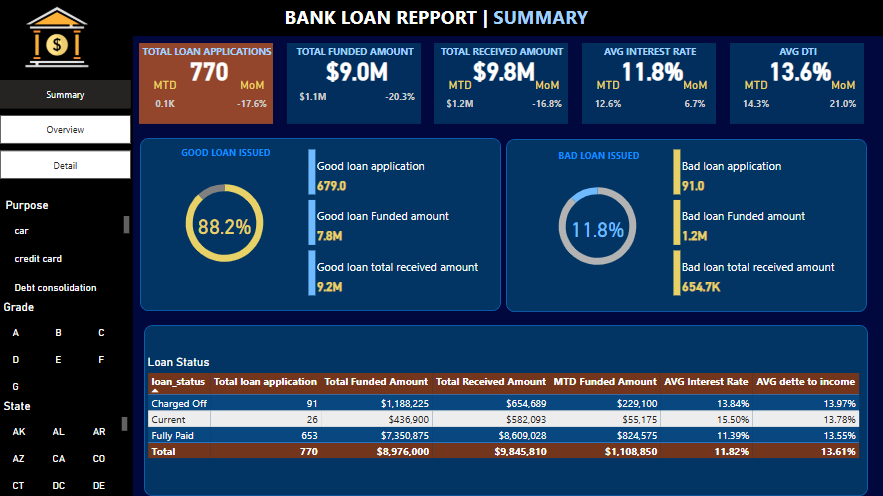

What the dashboard file says about the page in this screenshot:
{"tool":"powerbi","page":{"name":"Summary","canvas":[1280,720],"ordinal":0},"visuals":[{"type":"shape","box":[731.6,203.9,521.9,250.1],"z":0},{"type":"donutChart","fields":{"Category":["financial_loan.Good vs Bad Loan"],"Y":["financial_loan.Total loan application"]},"box":[224.1,250.1,201,150.4],"z":0,"group":"g6"},{"type":"donutChart","fields":{"Category":["financial_loan.Good vs Bad Loan"],"Y":["financial_loan.Total loan application"]},"box":[763.4,254.5,201,150.4],"z":0,"group":"g7"},{"type":"shape","box":[0,0,1280,55],"z":1000},{"type":"card","fields":{"Values":["financial_loan.Good loan application %"]},"box":[271.8,289.1,105.5,79.5],"z":1000,"group":"g6"},{"type":"card","fields":{"Values":["financial_loan.Bad loan application %"]},"box":[811.1,293.5,105.5,79.5],"z":1000,"group":"g7"},{"type":"shape","box":[0,55.4,192,665.2],"z":2000},{"type":"textbox","box":[234.2,209.6,185.1,53.5],"z":2000,"group":"g6"},{"type":"textbox","box":[773.5,214,185.1,53.5],"z":2000,"group":"g7"},{"type":"textbox","box":[406.5,3.4,465.3,52.1],"z":3000},{"type":"shape","box":[201.1,64.5,193.7,117.1],"z":3000,"group":"g1"},{"type":"shape","box":[414.7,64.5,193.7,117.1],"z":3000,"group":"g2"},{"type":"shape","box":[628.3,64.5,193.7,117.1],"z":3000,"group":"g3"},{"type":"shape","box":[841.9,64.5,193.7,117.1],"z":3000,"group":"g4"},{"type":"shape","box":[1055.6,64.5,193.7,117.1],"z":3000,"group":"g5"},{"type":"group","id":"g1","title":"Group 1","box":[189.4,62.2,219.8,120],"z":4000},{"type":"textbox","box":[189.4,62.2,219.8,34.7],"z":4000,"group":"g1"},{"type":"textbox","box":[403,62.2,219.8,34.7],"z":4000,"group":"g2"},{"type":"textbox","box":[616.6,62.2,219.8,34.7],"z":4000,"group":"g3"},{"type":"textbox","box":[830.2,62.2,219.8,34.7],"z":4000,"group":"g4"},{"type":"textbox","box":[1043.9,62.2,219.8,34.7],"z":4000,"group":"g5"},{"type":"group","id":"g2","title":"Group 1","box":[403,62.2,219.8,120],"z":5000},{"type":"card","fields":{"Values":["financial_loan.Total loan application"]},"box":[223.8,70.5,156.1,65.1],"z":5000,"group":"g1"},{"type":"card","fields":{"Values":["financial_loan.Total Funded Amount"]},"box":[437.4,70.5,156.1,65.1],"z":5000,"group":"g2"},{"type":"card","fields":{"Values":["financial_loan.Total Received Amount"]},"box":[651,70.5,156.1,65.1],"z":5000,"group":"g3"},{"type":"card","fields":{"Values":["financial_loan.AVG Interest Rate"]},"box":[864.6,70.5,156.1,65.1],"z":5000,"group":"g4"},{"type":"card","fields":{"Values":["financial_loan.AVG dette to income"]},"box":[1078.3,70.5,156.1,65.1],"z":5000,"group":"g5"},{"type":"group","id":"g3","title":"Group 1","box":[616.6,62.2,219.8,120],"z":6000},{"type":"card","title":"MTD ","fields":{"Values":["financial_loan.MTD Loan Application"]},"box":[202.7,115.9,72.2,58.8],"z":6000,"group":"g1"},{"type":"card","fields":{"Values":["financial_loan.MTD Funded Amount"]},"box":[416.3,115.9,72.2,58.8],"z":6000,"group":"g2"},{"type":"card","title":"MTD ","fields":{"Values":["financial_loan.MTD received amount"]},"box":[629.9,115.9,72.2,58.8],"z":6000,"group":"g3"},{"type":"card","title":"MTD ","fields":{"Values":["financial_loan.MTD avg interest rate"]},"box":[843.5,115.9,72.2,58.8],"z":6000,"group":"g4"},{"type":"card","title":"MTD ","fields":{"Values":["financial_loan.MTD avg dette to income"]},"box":[1057.2,115.9,72.2,58.8],"z":6000,"group":"g5"},{"type":"group","id":"g4","title":"Group 1","box":[830.2,62.2,219.8,120],"z":7000},{"type":"card","title":"MoM ","fields":{"Values":["financial_loan.MoM Loan Application"]},"box":[327.8,116.1,72.3,57.8],"z":7000,"group":"g1"},{"type":"card","title":"MoM ","fields":{"Values":["financial_loan.MoM total funded application"]},"box":[541.4,116.1,72.3,57.8],"z":7000,"group":"g2"},{"type":"card","title":"MoM ","fields":{"Values":["financial_loan.MoM received amount"]},"box":[755,116.1,72.3,57.8],"z":7000,"group":"g3"},{"type":"card","title":"MoM ","fields":{"Values":["financial_loan.MoM avg interest amount"]},"box":[968.6,116.1,72.3,57.8],"z":7000,"group":"g4"},{"type":"card","title":"MoM ","fields":{"Values":["financial_loan.MoM avg dette to income"]},"box":[1182.3,116.1,72.3,57.8],"z":7000,"group":"g5"},{"type":"group","id":"g5","title":"Group 1","box":[1043.9,62.2,219.8,120],"z":8000},{"type":"shape","box":[202.4,202.4,521.9,250.1],"z":9000},{"type":"cardVisual","fields":{"Data":["financial_loan.Good loan application","financial_loan.Good loan Funded amount","financial_loan.Good loan total received amount"]},"box":[441,214,271.8,222.7],"z":10000},{"type":"group","id":"g6","title":"Group 2","box":[224.1,209.6,201,190.8],"z":11000},{"type":"group","id":"g7","title":"Group 2","box":[763.4,214,201,190.8],"z":12000},{"type":"cardVisual","fields":{"Data":["financial_loan.Bad loan application","financial_loan.Bad loan Funded amount","financial_loan.Bad loan total received amount"]},"box":[968.7,214,271.8,222.7],"z":13000},{"type":"shape","box":[208.2,472.8,1046.7,247.2],"z":14000},{"type":"tableEx","title":"Loan Status","fields":{"Values":["financial_loan.loan_status","financial_loan.Total loan application","financial_loan.Total Funded Amount","financial_loan.Total Received Amount","financial_loan.MTD Funded Amount","financial_loan.AVG Interest Rate","financial_loan.AVG dette to income"]},"box":[208.2,516.1,1046.7,160.5],"z":15000},{"type":"advancedSlicerVisual","title":"Purpose","fields":{"Values":["financial_loan.purpose"]},"box":[2.9,289.2,189.4,147.5],"z":16000},{"type":"advancedSlicerVisual","title":"State","fields":{"Values":["financial_loan.address_state"]},"box":[0,579.8,189.4,140.2],"z":17000},{"type":"advancedSlicerVisual","title":"Grade","fields":{"Values":["financial_loan.grade"]},"box":[0,436.6,189.4,140.2],"z":18000},{"type":"pageNavigator","box":[0,118.6,189.4,144.6],"z":18001},{"type":"image","box":[28.9,2.9,107,107],"z":18002}]}

Visuals, with their boxes in screenshot pixels (x1, y1, x2, y2), scaled from the page's 1280x720 canvas onto the 883x496 screenshot:
shape: locate(505, 140, 865, 313)
donutChart - financial_loan.Good vs Bad Loan x financial_loan.Total loan application: locate(155, 172, 293, 276)
donutChart - financial_loan.Good vs Bad Loan x financial_loan.Total loan application: locate(527, 175, 665, 279)
shape: locate(0, 0, 882, 38)
card - financial_loan.Good loan application %: locate(187, 199, 260, 254)
card - financial_loan.Bad loan application %: locate(560, 202, 632, 257)
shape: locate(0, 38, 132, 495)
textbox: locate(162, 144, 289, 181)
textbox: locate(534, 147, 661, 184)
textbox: locate(280, 2, 601, 38)
shape: locate(139, 44, 272, 125)
shape: locate(286, 44, 420, 125)
shape: locate(433, 44, 567, 125)
shape: locate(581, 44, 714, 125)
shape: locate(728, 44, 862, 125)
"Group 1" group: locate(131, 43, 282, 126)
textbox: locate(131, 43, 282, 67)
textbox: locate(278, 43, 430, 67)
textbox: locate(425, 43, 577, 67)
textbox: locate(573, 43, 724, 67)
textbox: locate(720, 43, 872, 67)
"Group 1" group: locate(278, 43, 430, 126)
card - financial_loan.Total loan application: locate(154, 49, 262, 93)
card - financial_loan.Total Funded Amount: locate(302, 49, 409, 93)
card - financial_loan.Total Received Amount: locate(449, 49, 557, 93)
card - financial_loan.AVG Interest Rate: locate(596, 49, 704, 93)
card - financial_loan.AVG dette to income: locate(744, 49, 852, 93)
"Group 1" group: locate(425, 43, 577, 126)
"MTD " card: locate(140, 80, 190, 120)
card - financial_loan.MTD Funded Amount: locate(287, 80, 337, 120)
"MTD " card: locate(435, 80, 484, 120)
"MTD " card: locate(582, 80, 632, 120)
"MTD " card: locate(729, 80, 779, 120)
"Group 1" group: locate(573, 43, 724, 126)
"MoM " card: locate(226, 80, 276, 120)
"MoM " card: locate(373, 80, 423, 120)
"MoM " card: locate(521, 80, 571, 120)
"MoM " card: locate(668, 80, 718, 120)
"MoM " card: locate(816, 80, 865, 120)
"Group 1" group: locate(720, 43, 872, 126)
shape: locate(140, 139, 500, 312)
cardVisual - financial_loan.Good loan application x financial_loan.Good loan Funded amount: locate(304, 147, 492, 301)
"Group 2" group: locate(155, 144, 293, 276)
"Group 2" group: locate(527, 147, 665, 279)
cardVisual - financial_loan.Bad loan application x financial_loan.Bad loan Funded amount: locate(668, 147, 856, 301)
shape: locate(144, 326, 866, 495)
"Loan Status" tableEx: locate(144, 356, 866, 466)
"Purpose" advancedSlicerVisual: locate(2, 199, 133, 301)
"State" advancedSlicerVisual: locate(0, 399, 131, 495)
"Grade" advancedSlicerVisual: locate(0, 301, 131, 397)
pageNavigator: locate(0, 82, 131, 181)
image: locate(20, 2, 94, 76)
